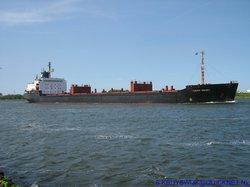Cargoship: (19, 48, 241, 105)
